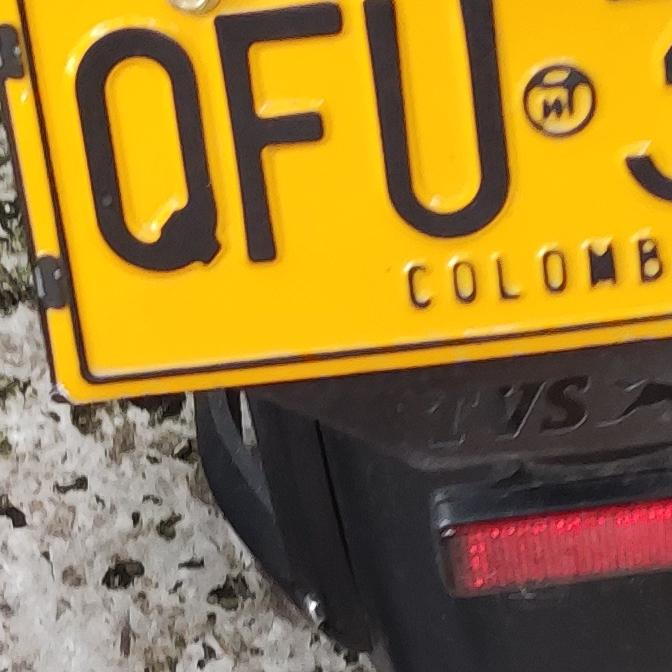plates: (0, 0, 672, 404)
